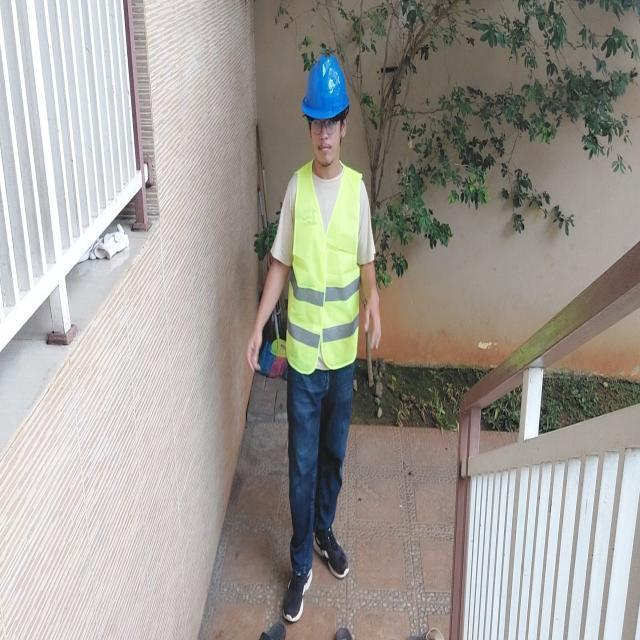Capacete: (301, 55, 349, 120)
Colete: (286, 162, 360, 373)
